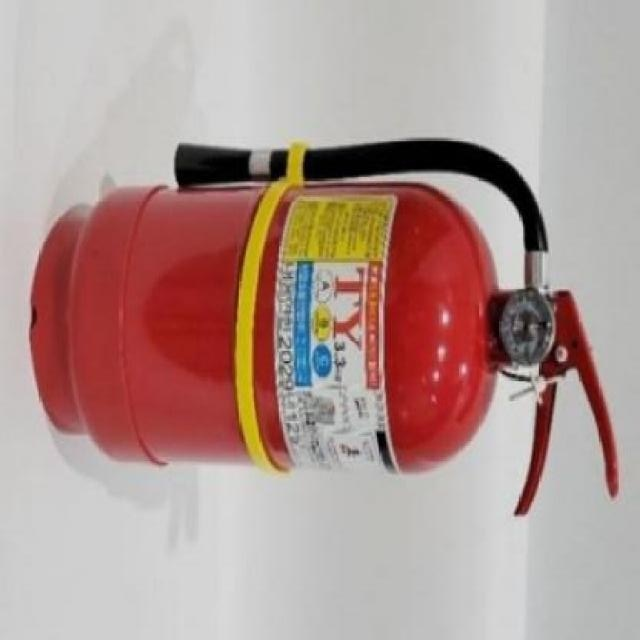fire extinguisher: (29, 137, 623, 517)
